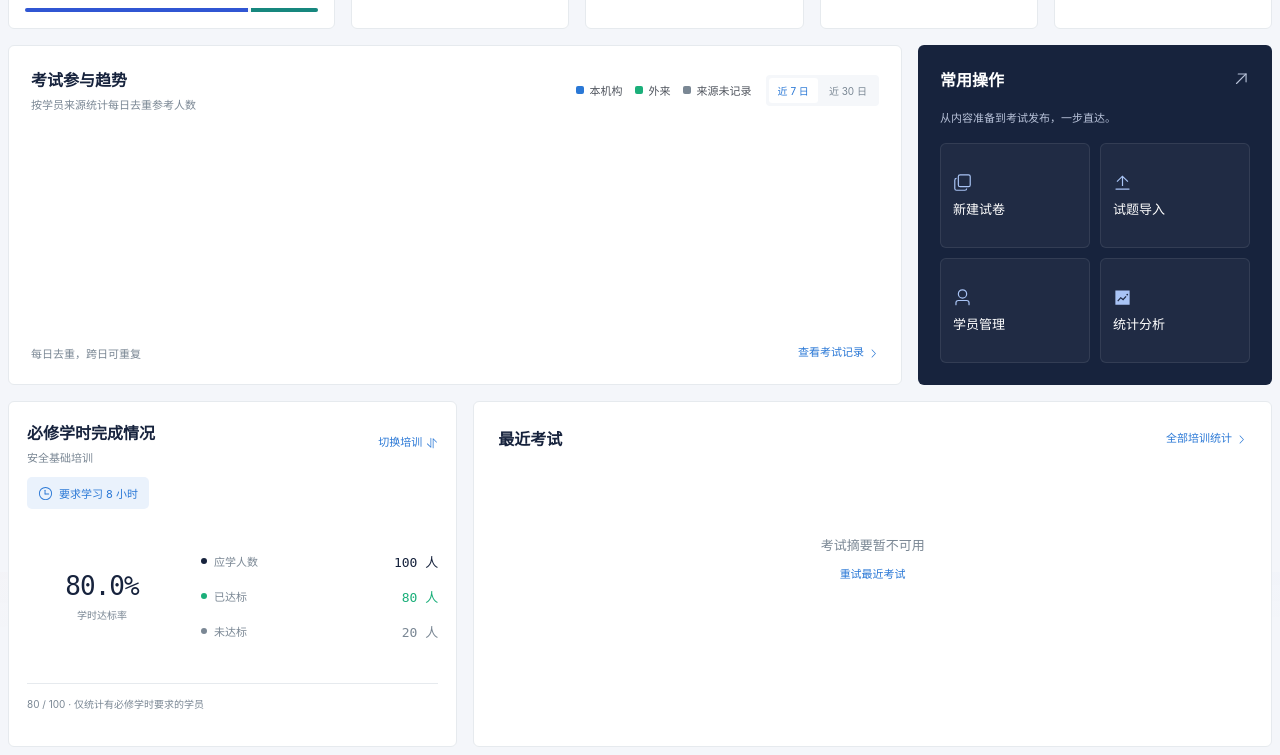
Test: admin operations dashboard › shows module failure and retries only that module
(page scrolled)
Expected: the element with test id "dashboard-recent" shows "考试摘要暂不可用", [821,537,925,553]
Click the button with test id "dashboard-recent-retry" at (873, 574), box [840,566,906,583]
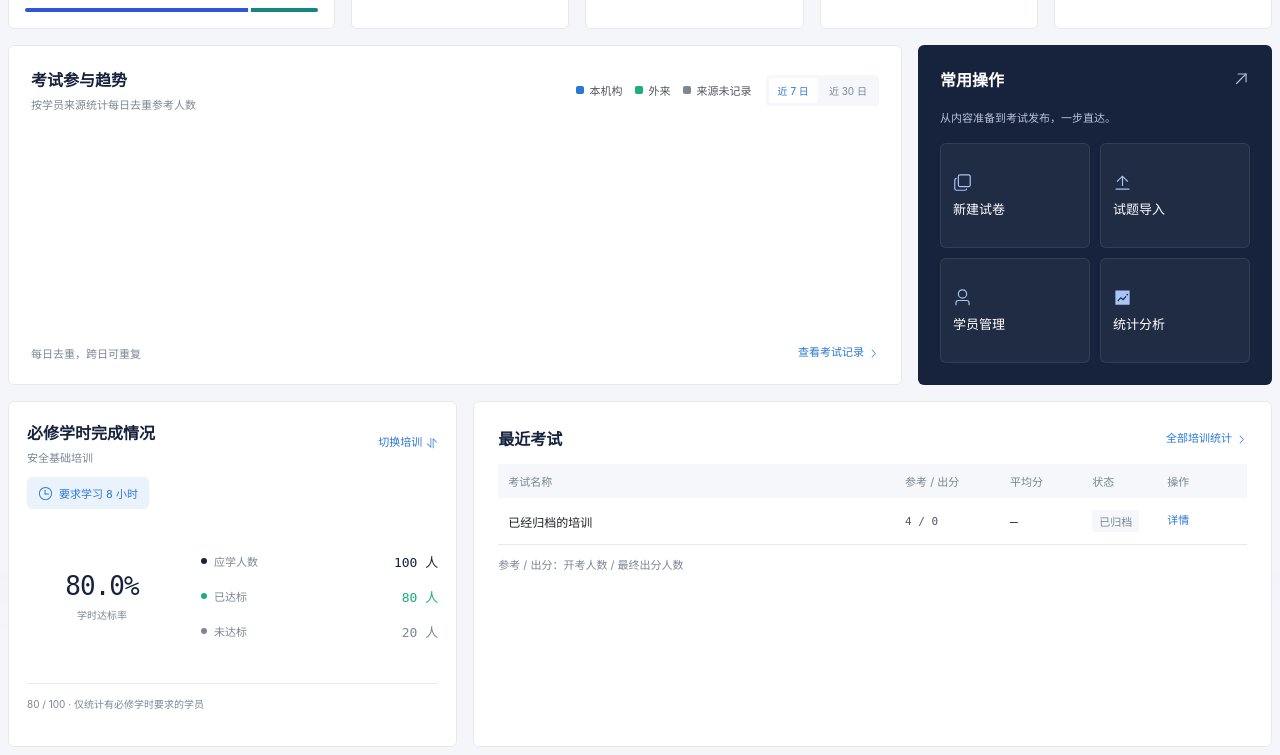
Expected: the element with test id "dashboard-recent" shows "已经归档的培训", [508,514,592,530]
